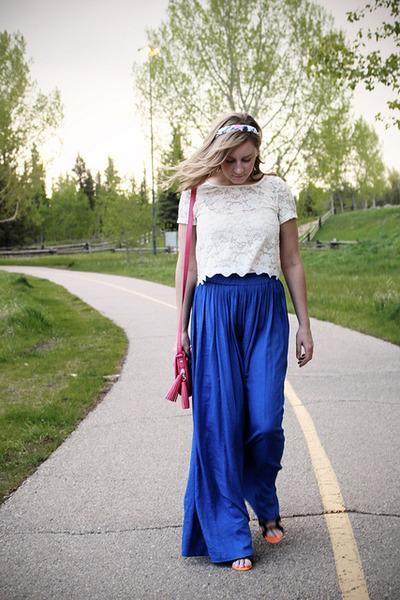bag: (167, 352, 191, 408)
pants: (182, 273, 294, 568)
shirt: (177, 180, 298, 285)
shoe: (212, 526, 278, 567)
